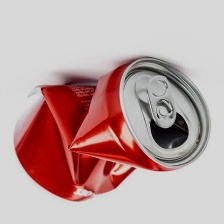can: (9, 46, 215, 205)
